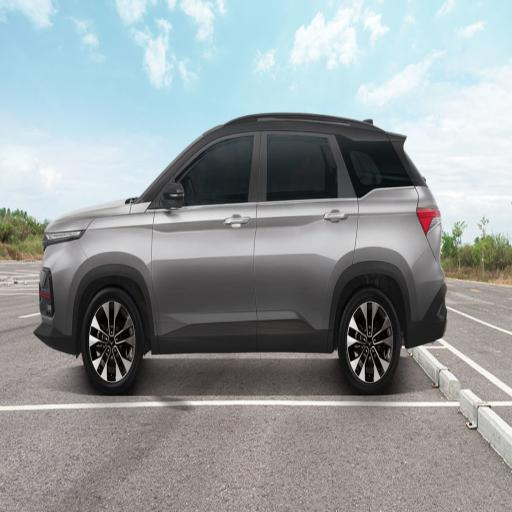Sedan-sDLz: (34, 113, 446, 393)
